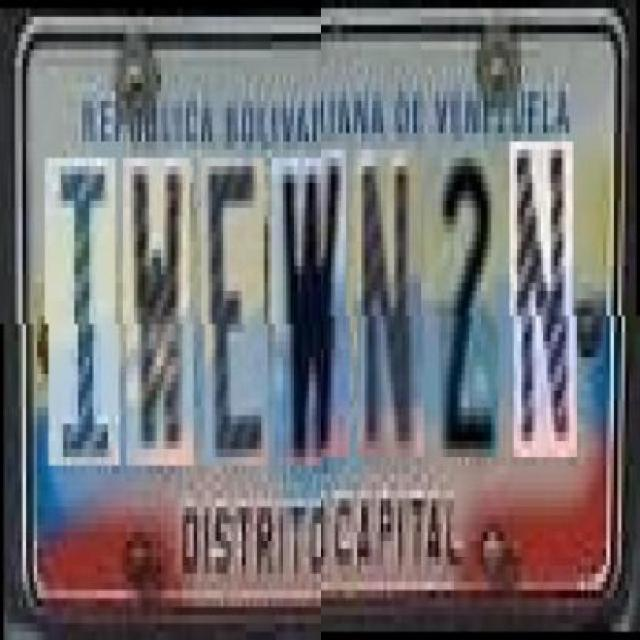2: (439, 158, 499, 465)
e: (204, 158, 268, 465)
i: (49, 158, 120, 465)
n: (512, 149, 577, 466), (358, 158, 424, 465)
w: (275, 158, 350, 465), (126, 158, 194, 465)
